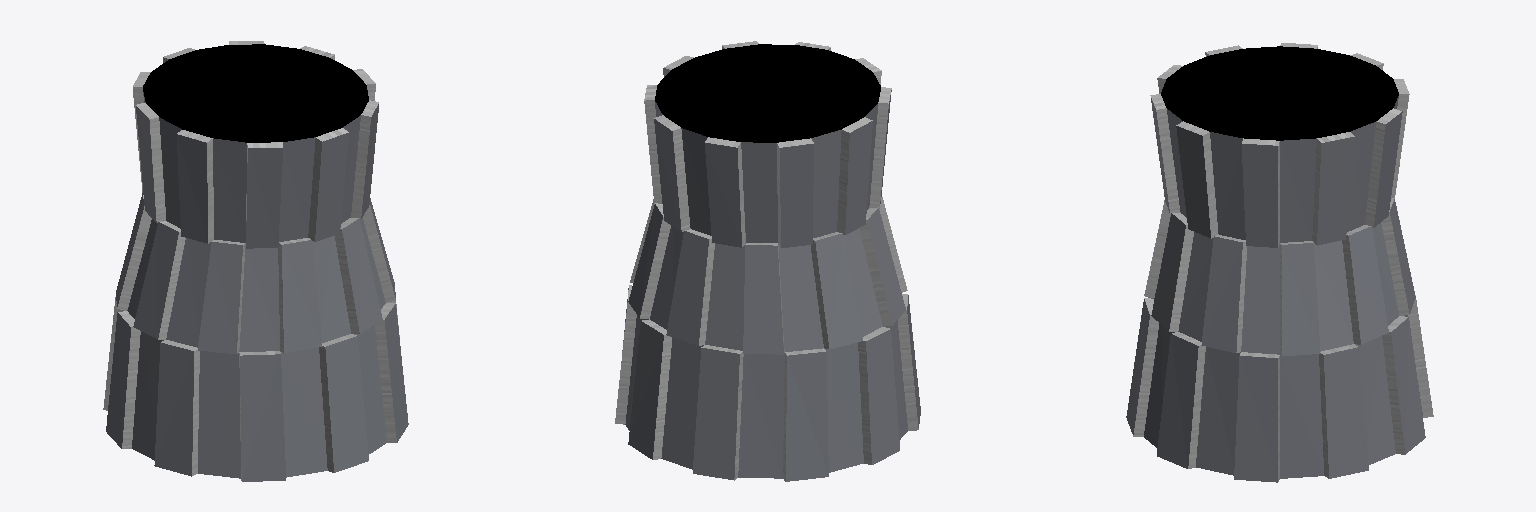
3 views of the same model, side by side, from view 1: azimuth 30°, elevation 25°; view 2: azimuth 150°, elevation 25°; view 3: azimuth 270°, elevation 25° (orthographic).
Visible parts, largest first — view 1: Torre_ll; view 2: Torre_ll; view 3: Torre_ll.
Boxes of the visible parts, x1=… form: Torre_ll: x1=103, y1=41, x2=408, y2=481; Torre_ll: x1=615, y1=41, x2=920, y2=481; Torre_ll: x1=1126, y1=43, x2=1433, y2=482.
Size of the model in its own units: 58.96 by 68.73 by 58.95.
Materials: 3 (3 with a texture image).